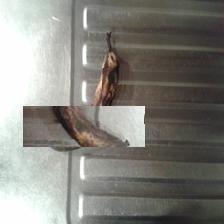Banana Rotten: (24, 106, 146, 147), (102, 30, 128, 141)
